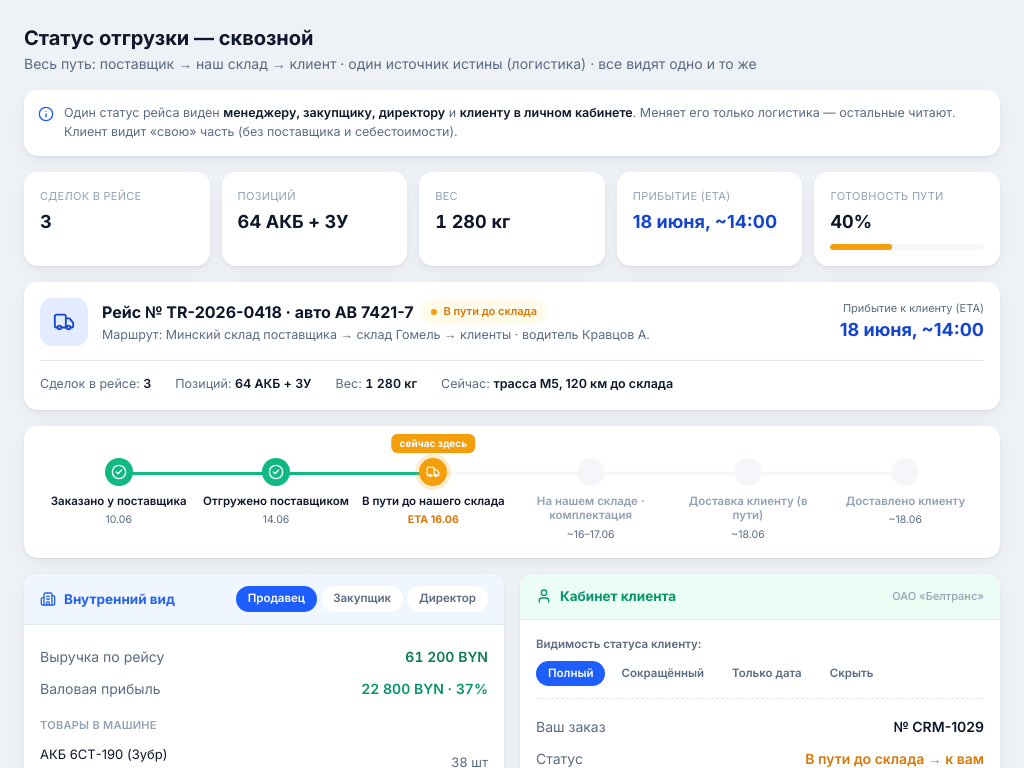
Test: ShipmentStatus › роль «Директор» видит и себестоимость, и выручку одновременно
The width and height of the screenshot is (1024, 768).
Click the button "Директор": (448, 599) [407,586,488,612]
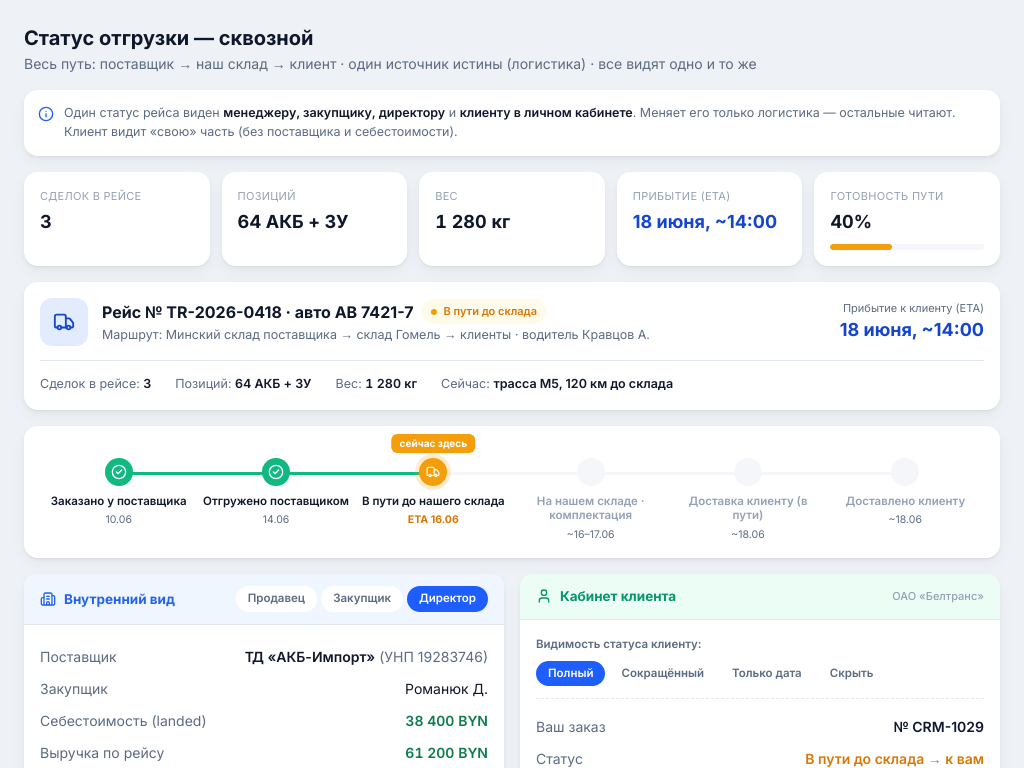
Expected: the text "Выручка по рейсу" is shown, [40,742,164,762]
Expected: the text "Себестоимость (landed)" is shown, [40,710,206,730]
